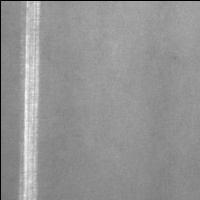scratches: (17, 1, 45, 200)
